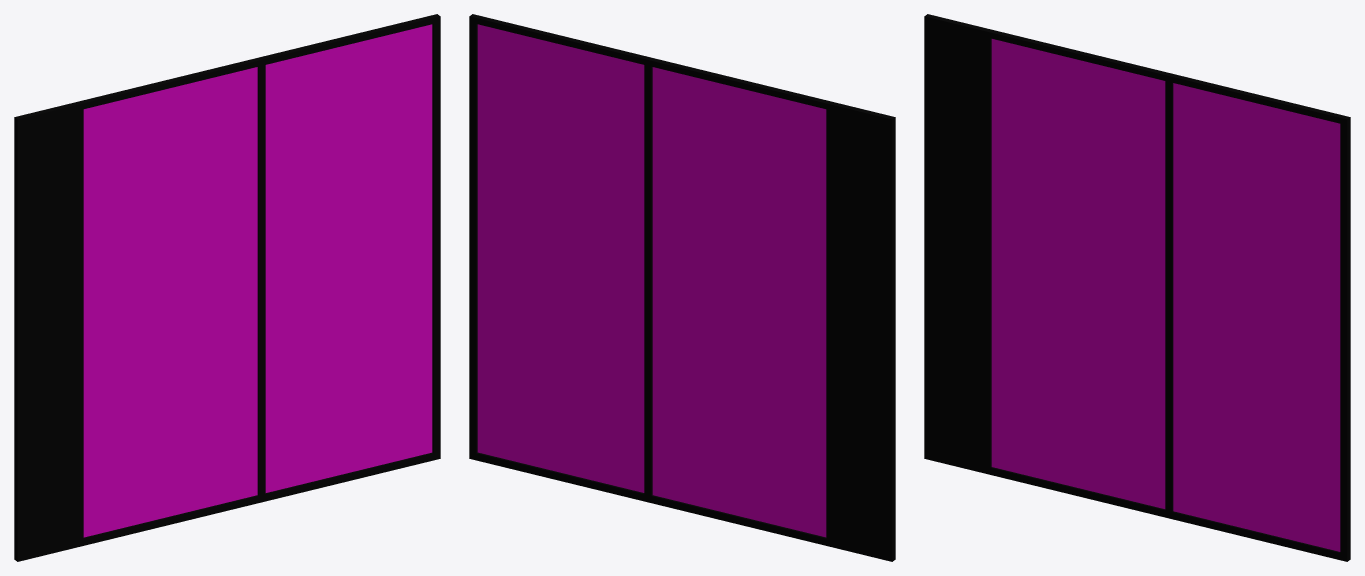
Rendered from swinging_door.fbx.
3 views of the same model, side by side, from view 1: azimuth 30°, elevation 25°; view 2: azimuth 150°, elevation 25°; view 3: azimuth 330°, elevation 25° (orthographic).
Parts seen in each view (by area): view 1: Swinging_doors; view 2: Swinging_doors; view 3: Swinging_doors.
Boxes of the visible parts, x1=… form: Swinging_doors: x1=14, y1=14, x2=440, y2=561; Swinging_doors: x1=469, y1=14, x2=895, y2=561; Swinging_doors: x1=924, y1=14, x2=1350, y2=561.
Bounding box in the file's own units: 4 × 4 × 0.0525.
